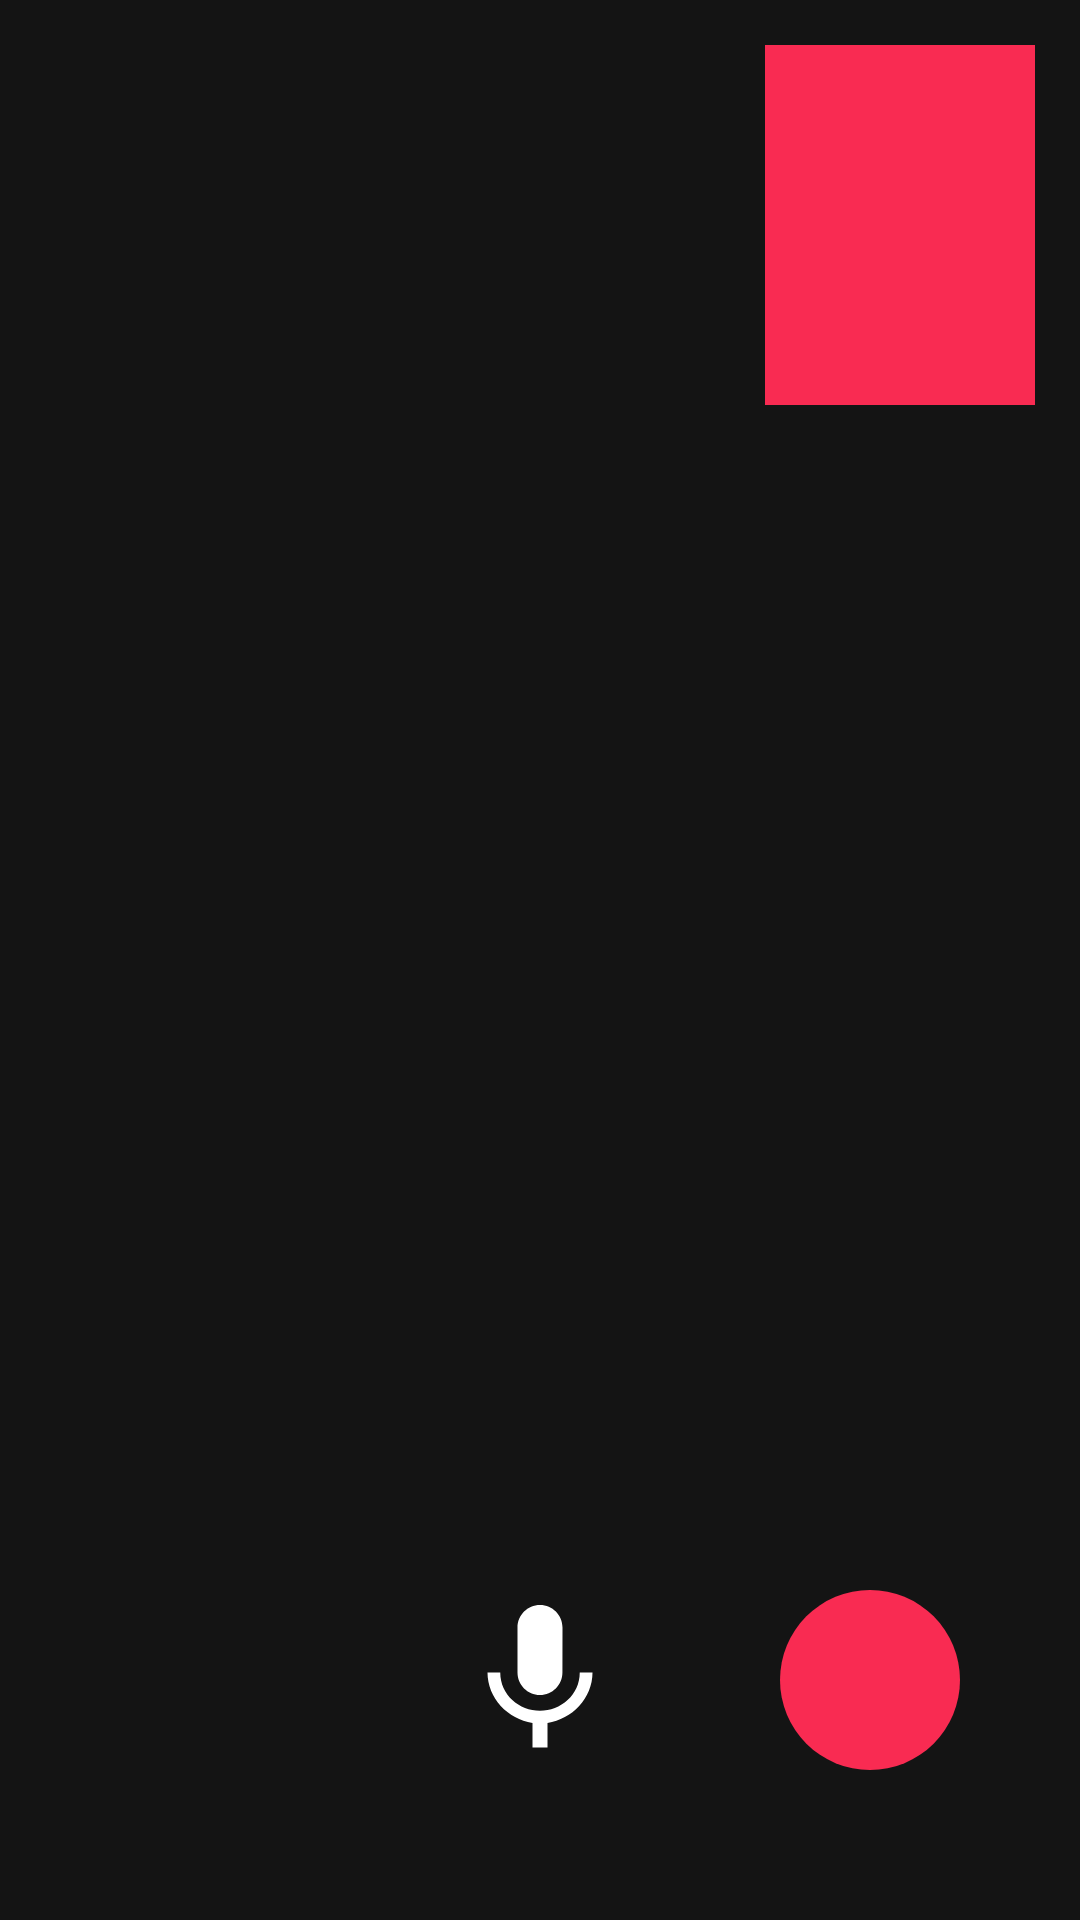

Icon click points for this 1080×1920 phone screenshot, format (x,y):
mic: (540,1676)
